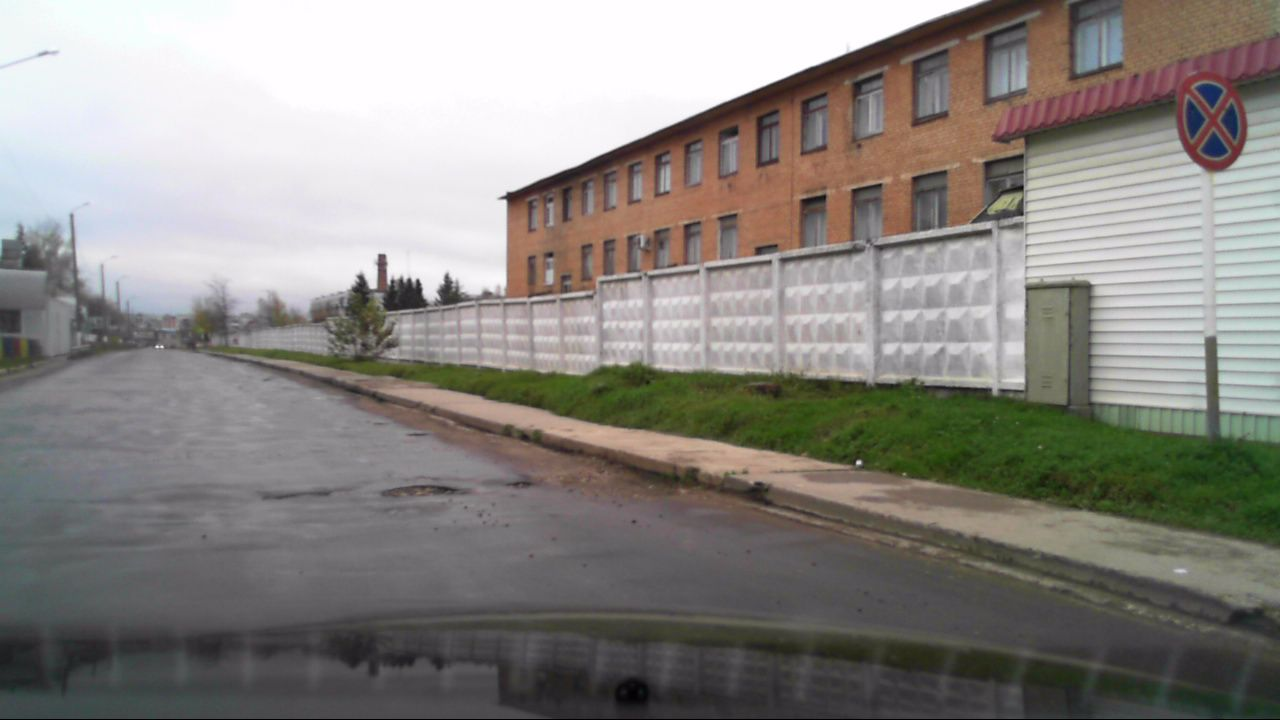No Parking: (1175, 72, 1249, 173)
